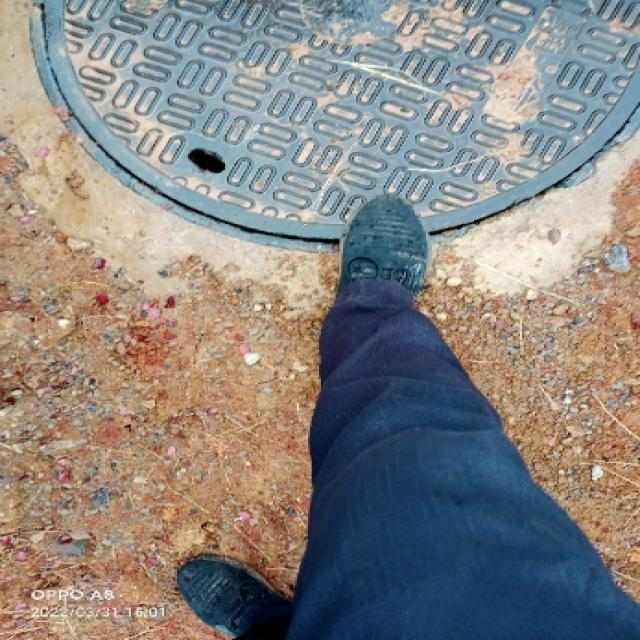Good: (0, 0, 640, 273)
